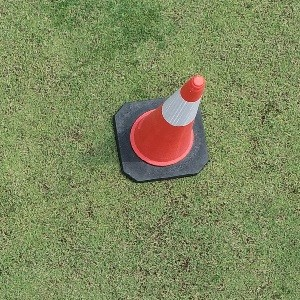traffic cone: (114, 75, 209, 182)
